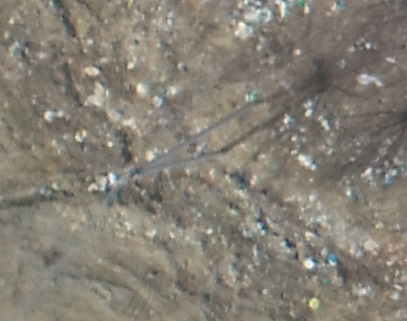opora: (119, 88, 291, 181)
